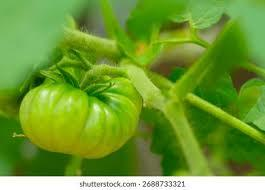Mengkal: (15, 48, 146, 156)
